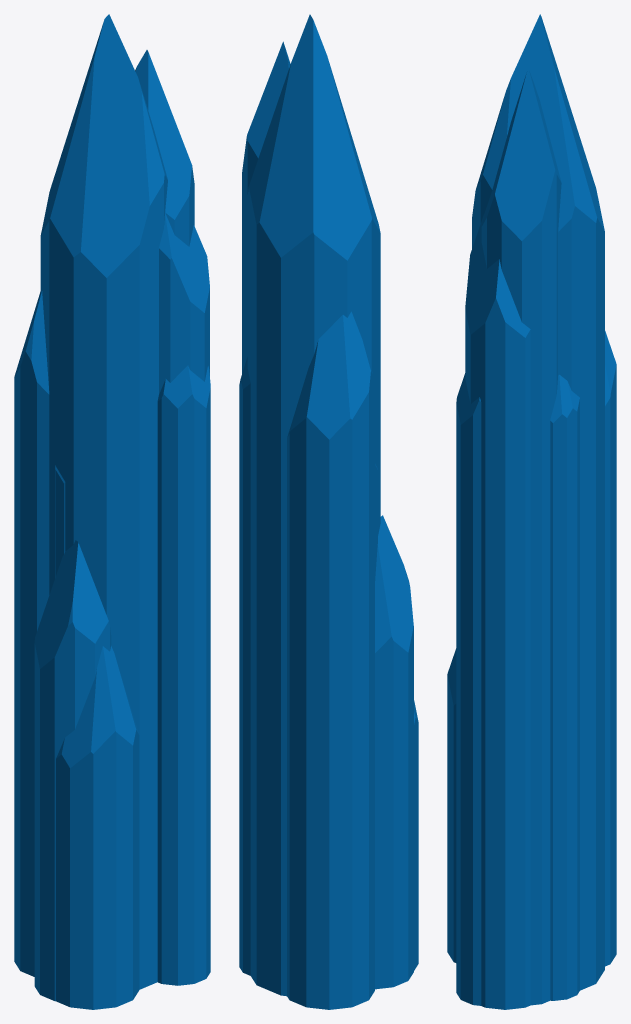
Rendered from Krysztal.fbx.
3 renders of one model, left to right at view 1: azimuth 30°, elevation 25°; view 2: azimuth 150°, elevation 25°; view 3: azimuth 270°, elevation 25°, orthographic.
Visible parts, largest first — view 1: Cylinder005; view 2: Cylinder005; view 3: Cylinder005.
Boxes of the visible parts, bbox=[...] form: Cylinder005: bbox=[14, 14, 210, 1009]; Cylinder005: bbox=[239, 14, 418, 1009]; Cylinder005: bbox=[447, 14, 616, 1009].
Bounding box in the file's own units: 23.32 × 131 × 20.97.
